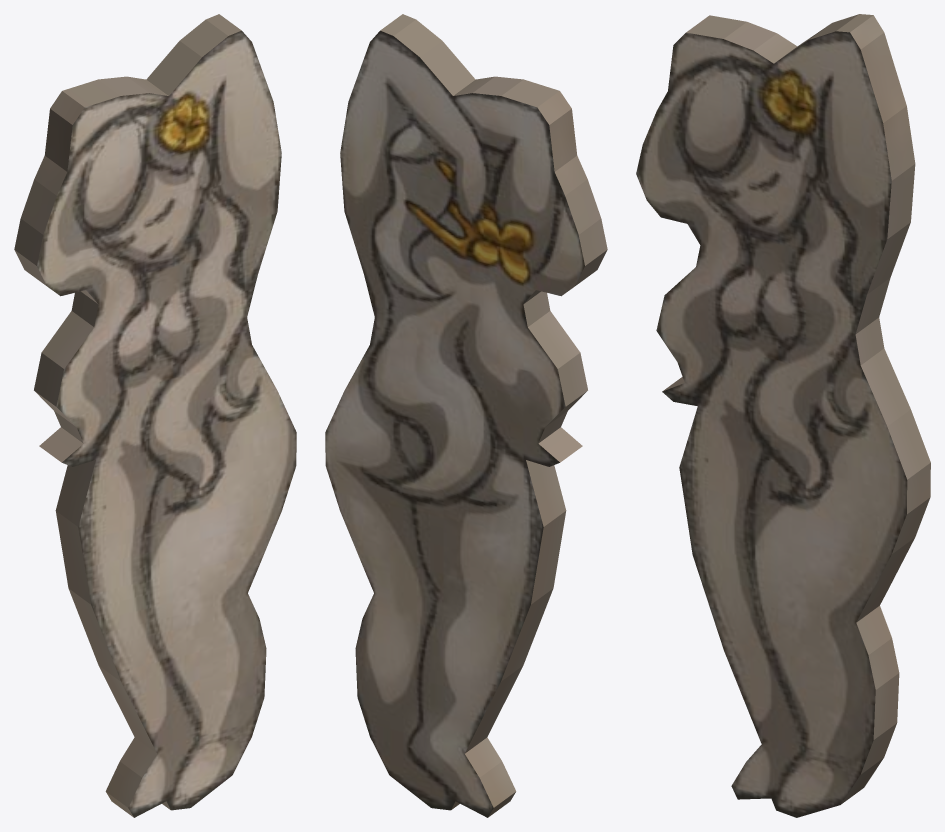
Rendered from Statue.fbx.
3 renders of one model, left to right at view 1: azimuth 30°, elevation 25°; view 2: azimuth 150°, elevation 25°; view 3: azimuth 330°, elevation 25°, orthographic. The views are drawn at different scales.
Parts seen in each view (by area): view 1: Statue; view 2: Statue; view 3: Statue.
Boxes of the visible parts, x1,y1,x2,y2 form: Statue: (14,14,296,817); Statue: (325,14,607,817); Statue: (636,14,930,817).
Bounding box in the file's own units: 1.55 × 0.2338 × 4.36.
